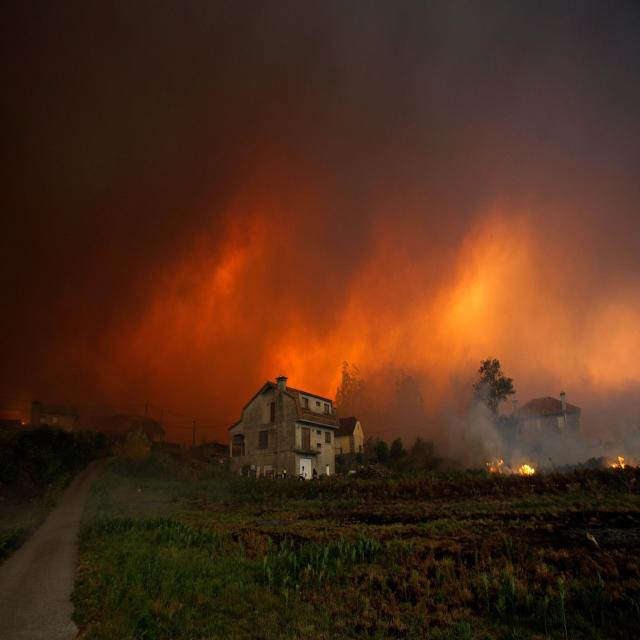Fire: (6, 218, 640, 436)
Smoke: (3, 0, 639, 339)
